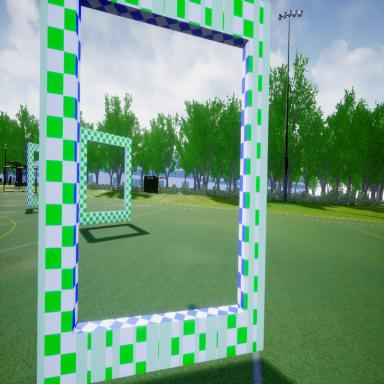gate: (36, 0, 270, 384), (77, 126, 133, 230)
